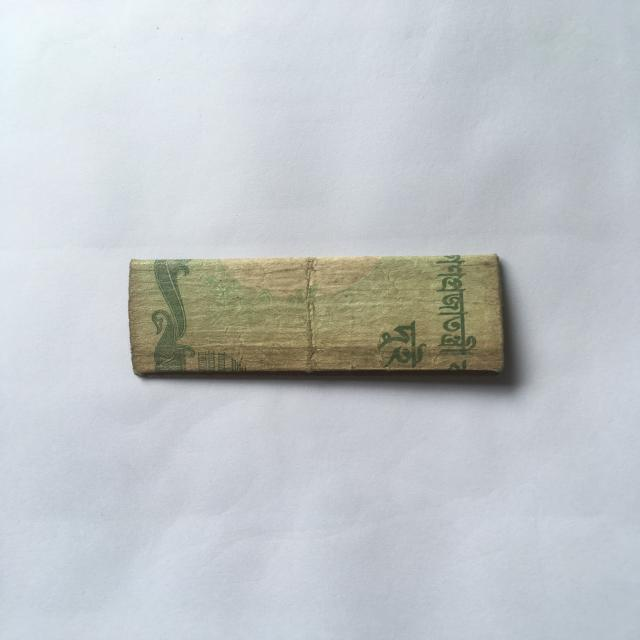Taka: (117, 252, 509, 376)
